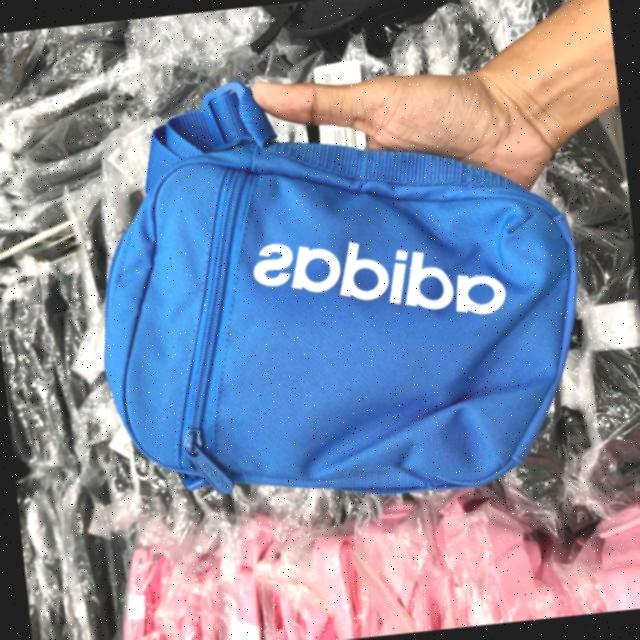handbag: (50, 55, 588, 531)
